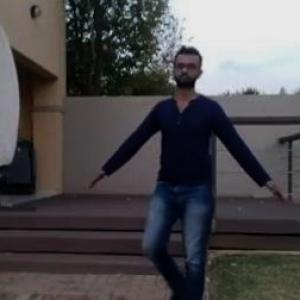land: (110, 70, 272, 299)
